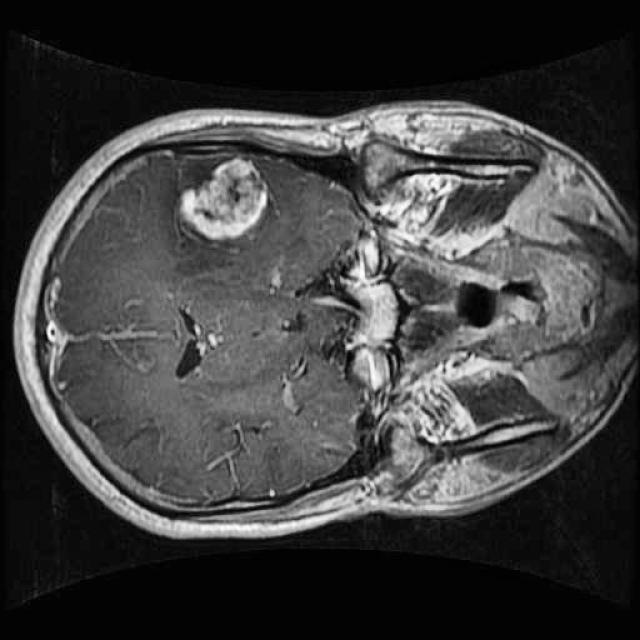Tumor: (163, 148, 281, 252)
